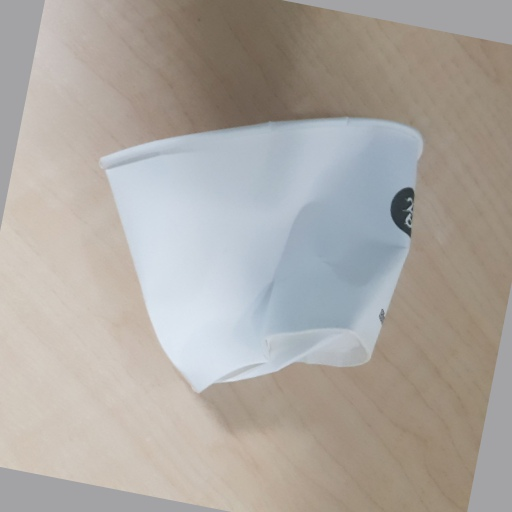Paper_1: (94, 117, 438, 393)
